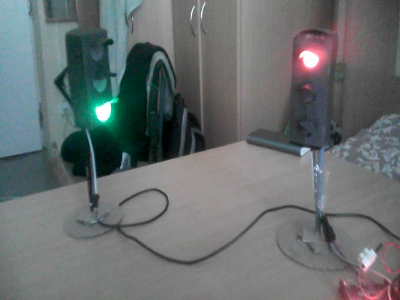trafficlight_green: (79, 32, 117, 124)
trafficlight_red: (291, 32, 329, 147)
